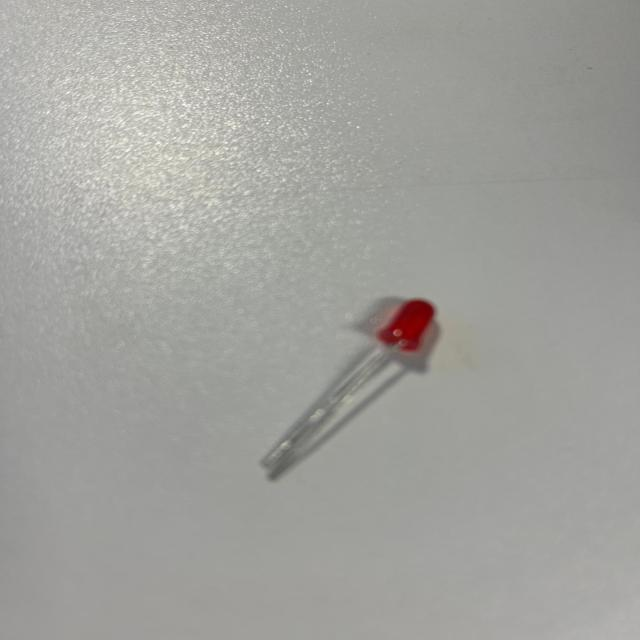REDLed: (240, 284, 439, 503)
